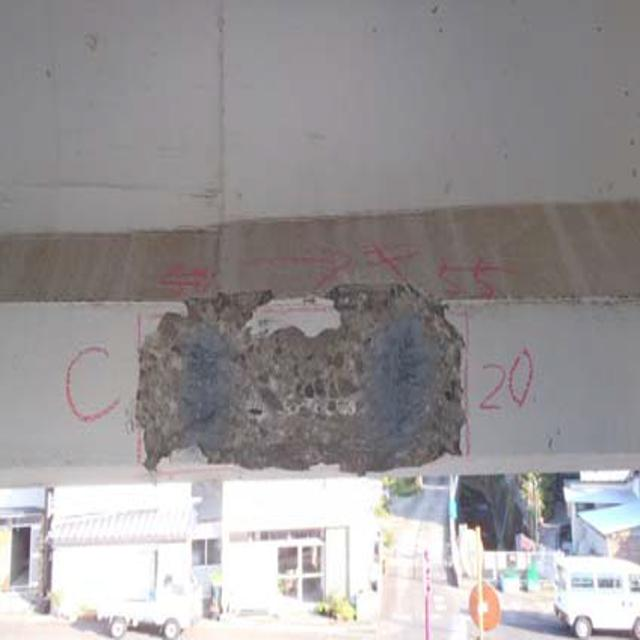spalling: (108, 273, 476, 474)
